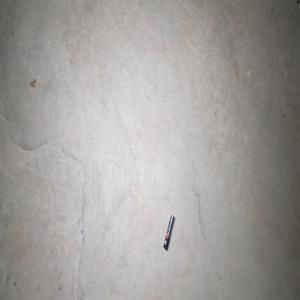Battery: (163, 213, 175, 250)
